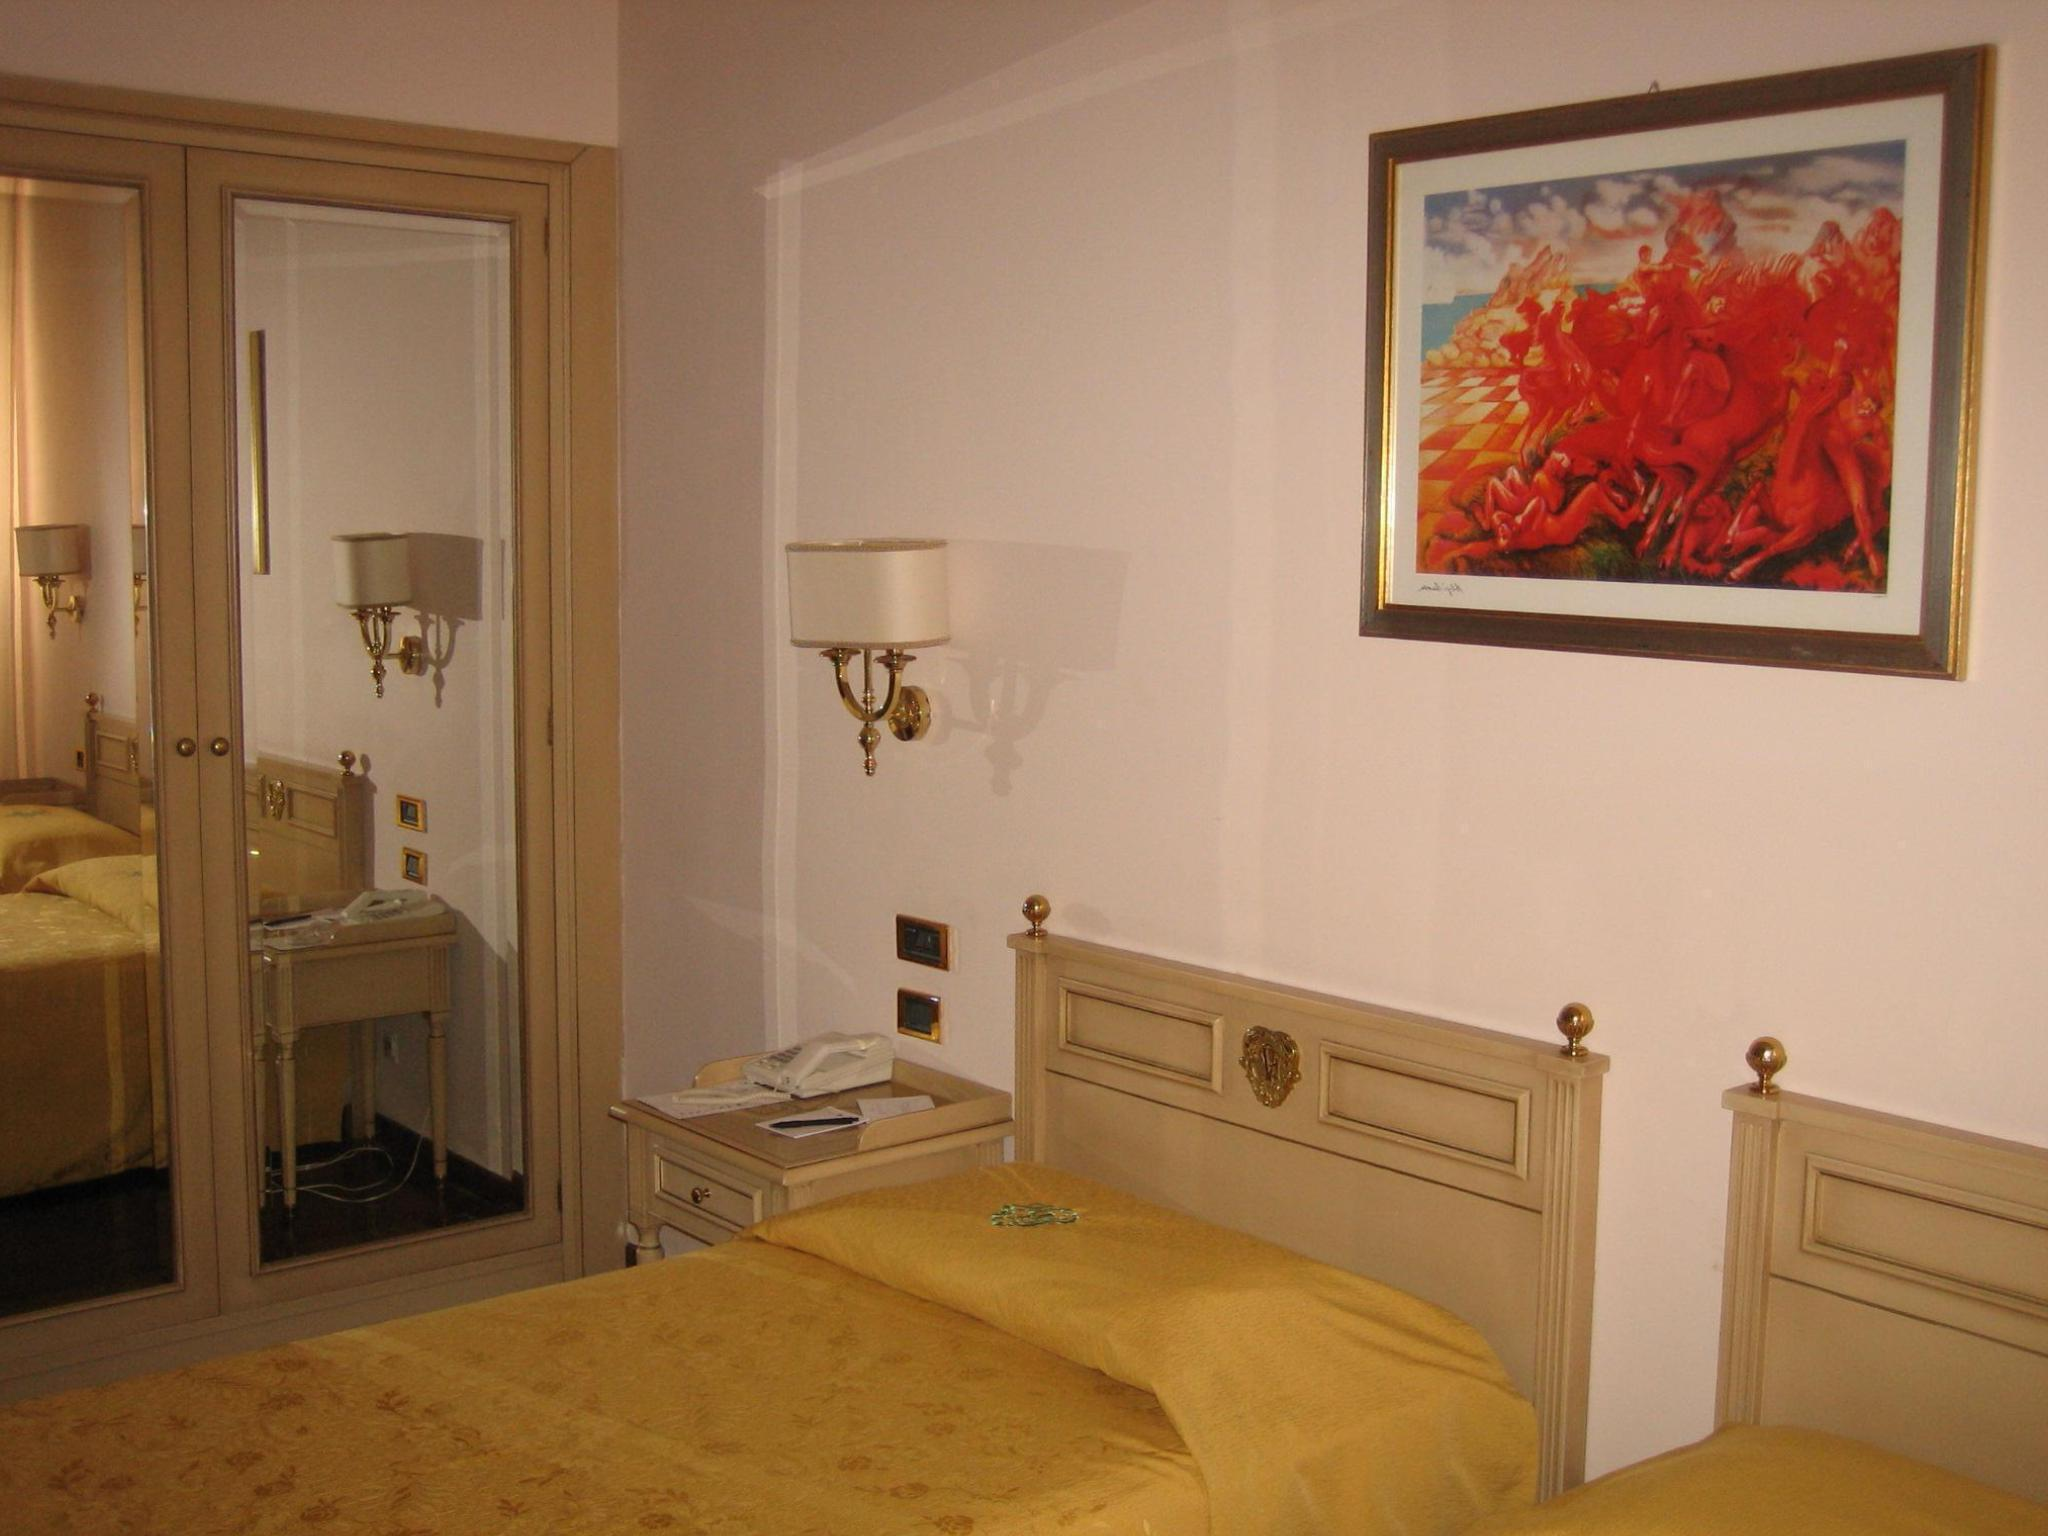Puerta: (0, 131, 601, 1360)
